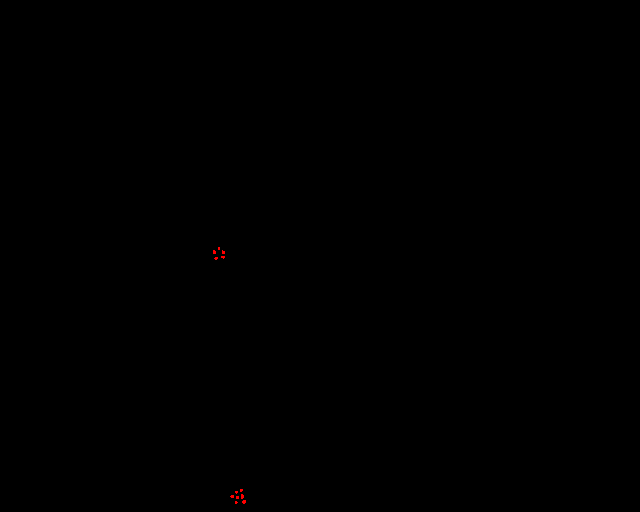Target: (242, 500, 246, 504), (241, 494, 244, 499), (213, 250, 216, 254), (222, 250, 225, 254), (221, 256, 225, 259), (214, 257, 218, 260), (230, 495, 234, 498), (240, 489, 243, 492), (235, 491, 238, 494), (236, 496, 239, 499), (235, 501, 238, 504), (218, 247, 220, 250)
